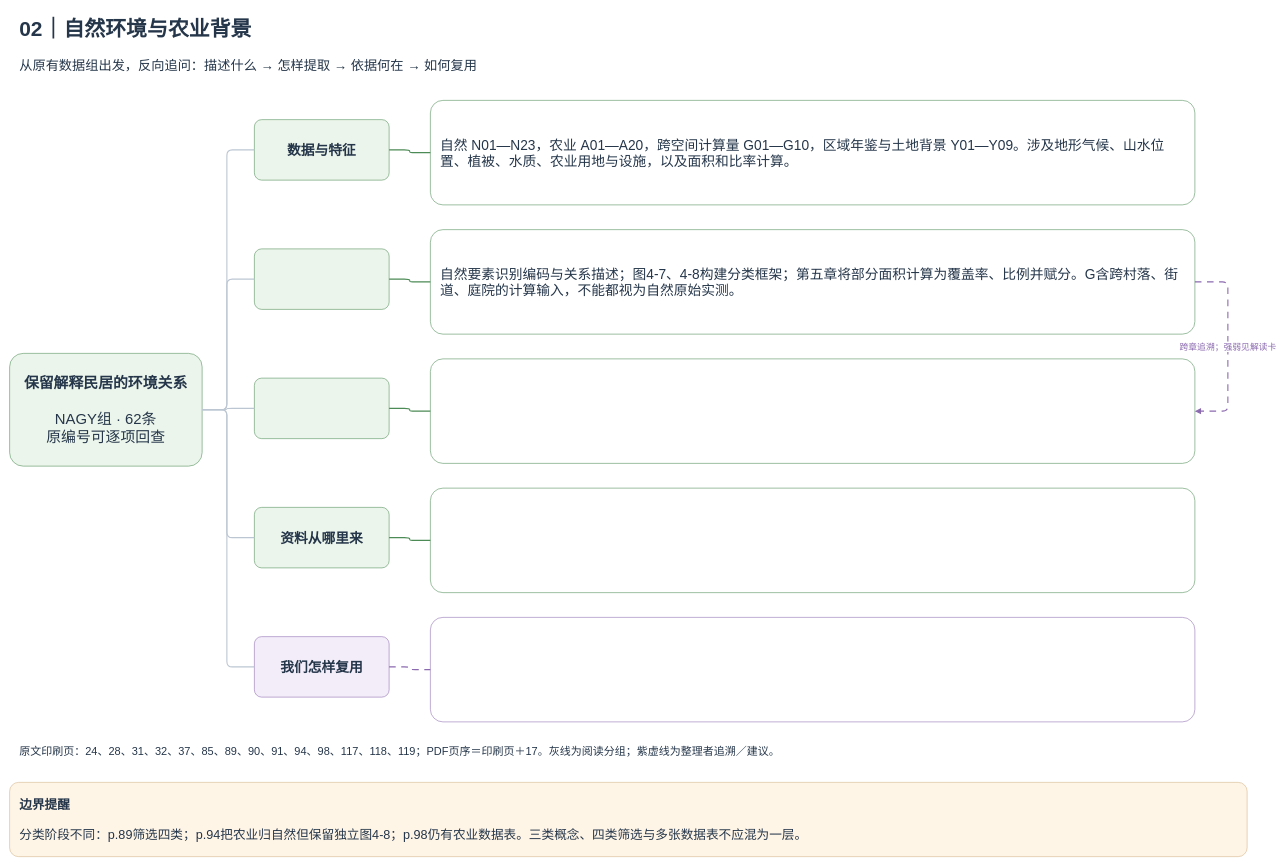
Image size: 1286x866. Some labels were removed from this diagram. The shapes that lost their labels are listed below. From the top down, each one's centre as x and y in pixels, then its label:
At point (321, 278): "识别与整理".
At point (321, 408): "理论与方法".
At point (812, 410): "K01 系统科学为整体环境关系提供框架；K03 拓扑提供聚落—环境关系的概念视角；K08 解释分类与筛选。具体生态评价另追K09的标准，不能由拓扑推导水质标准。".
At point (812, 540): "S03现场、S05统计、S06—S07文本与图件、S10—S11部门资料是相应类别渠道；Y仅对应表2-1五本2018年鉴，不能当28村全部数据的直接来源。".
At point (812, 669): "【选择采集】优先地形、水系、朝向及与民居分布／建造的联系，服务本项目 B 村落、C 组团、F 解释资料；农业、生态绩效仅在能解释具体民居特征时深化。".
